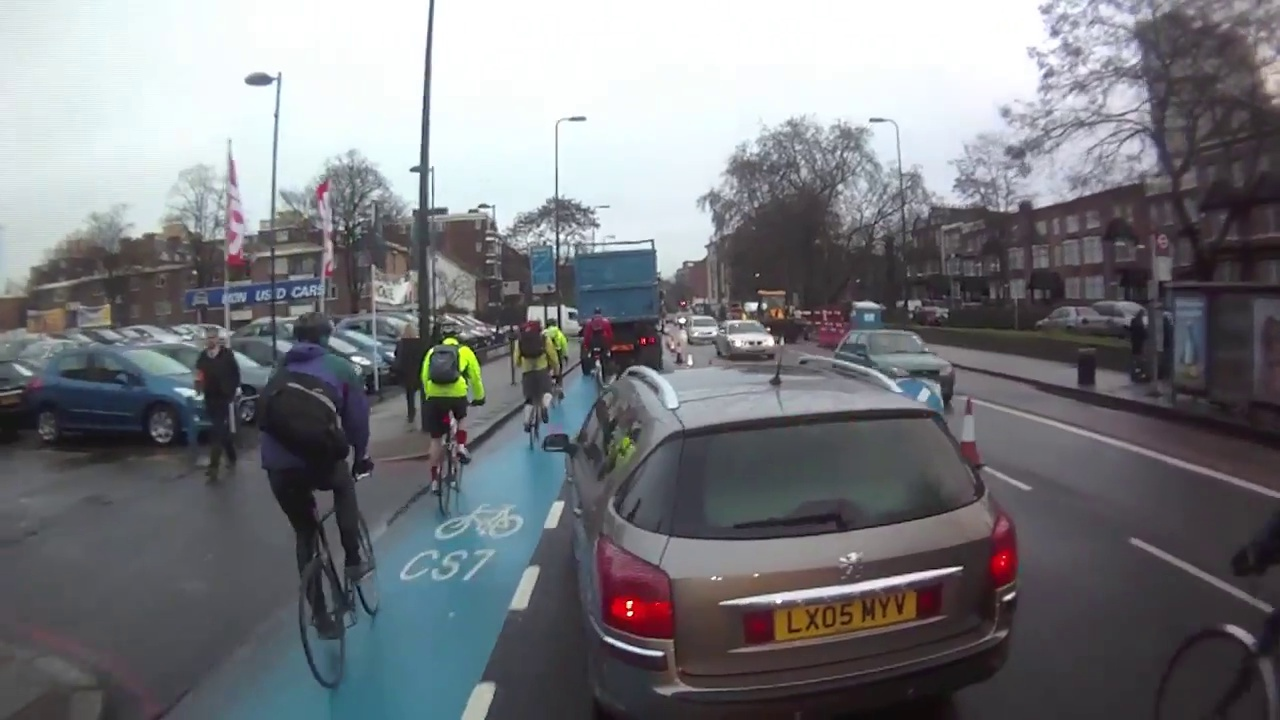cyclist_back: (271, 305, 392, 674), (417, 318, 470, 528), (509, 314, 555, 450), (573, 299, 614, 402)
